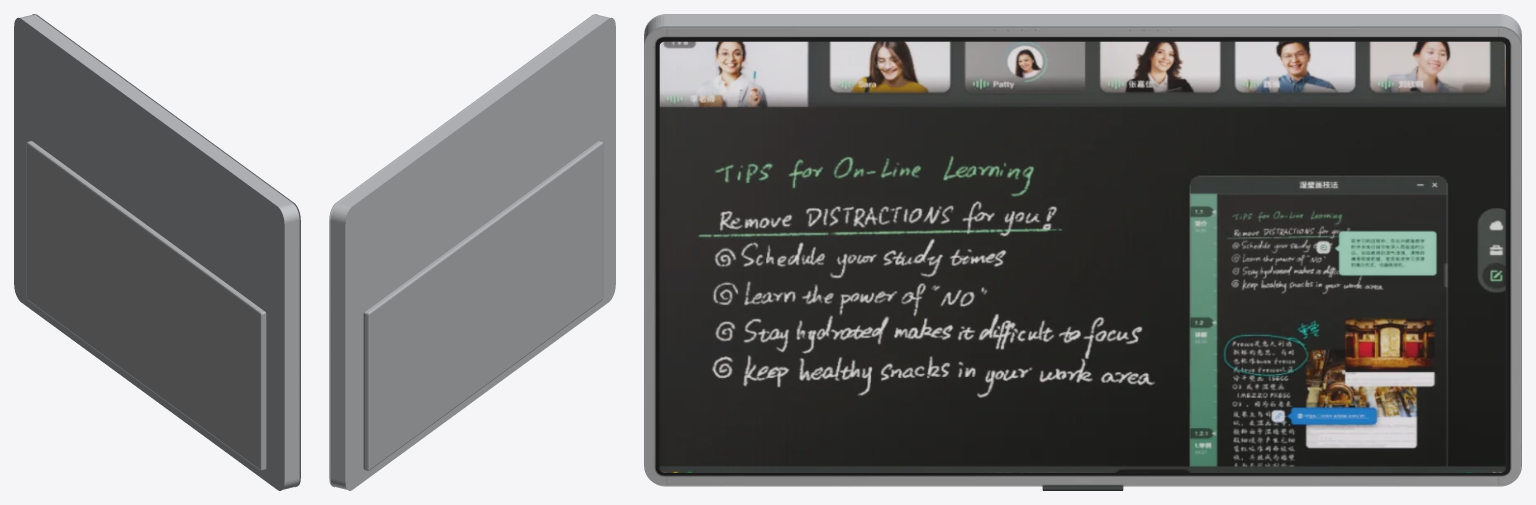
File: board-86.glb
The picture shows the model from 3 angles, left to right: view 1: azimuth 30°, elevation 25°; view 2: azimuth 150°, elevation 25°; view 3: azimuth 270°, elevation 25°; orthographic projection. The views are drawn at different scales.
Visible parts, largest first — view 1: ClassIn display rounded silver shell, Shallow rear electronics cover, ClassIn actual bezel / original logo retained; view 2: ClassIn display rounded silver shell, Shallow rear electronics cover, ClassIn actual bezel / original logo retained; view 3: Active teaching display, ClassIn actual bezel / original logo retained, ClassIn display rounded silver shell.
Boxes of the visible parts, x1=… form: ClassIn display rounded silver shell: x1=14, y1=14, x2=299, y2=490; Shallow rear electronics cover: x1=26, y1=141, x2=266, y2=470; ClassIn actual bezel / original logo retained: x1=36, y1=14, x2=300, y2=485; ClassIn display rounded silver shell: x1=330, y1=14, x2=615, y2=490; Shallow rear electronics cover: x1=363, y1=141, x2=603, y2=470; ClassIn actual bezel / original logo retained: x1=329, y1=14, x2=593, y2=485; Active teaching display: x1=659, y1=41, x2=1505, y2=472; ClassIn actual bezel / original logo retained: x1=645, y1=28, x2=1520, y2=486; ClassIn display rounded silver shell: x1=644, y1=14, x2=1521, y2=480.
Size of the model in its own units: 0.1075 by 1.15 by 1.98.
Materials: 5 (2 with a texture image).
